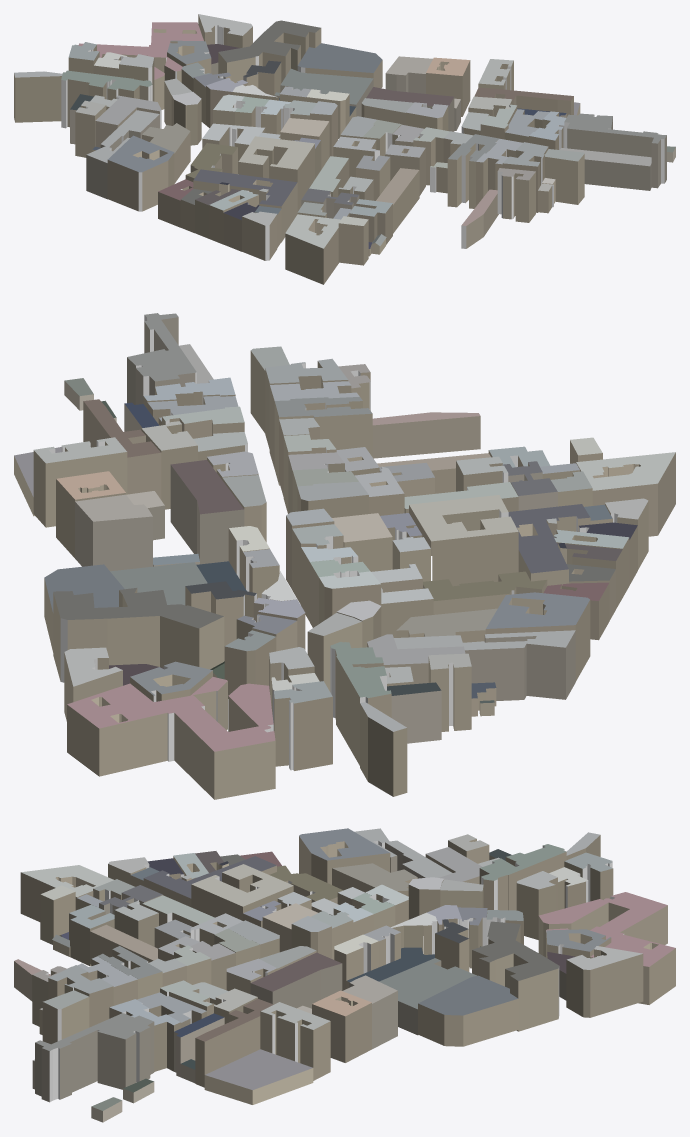
3 views of the same model, one above another, from view 1: azimuth 30°, elevation 25°; view 2: azimuth 150°, elevation 25°; view 3: azimuth 270°, elevation 25° (orthographic). The views are drawn at different scales.
Parts seen in each view (by area): view 1: tuile; view 2: tuile; view 3: tuile.
Boxes of the visible parts, x1=… form: tuile: x1=14, y1=14, x2=675, y2=284; tuile: x1=14, y1=313, x2=675, y2=799; tuile: x1=14, y1=828, x2=675, y2=1122.
Size of the model in its own units: 265 by 33.49 by 283.
